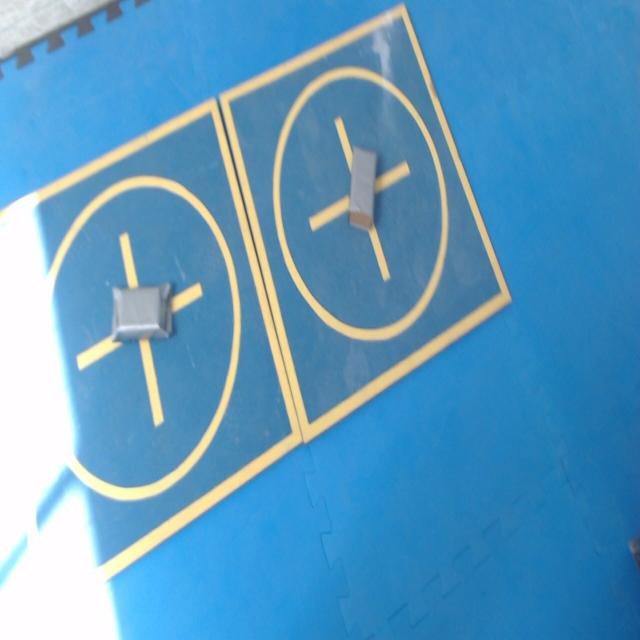lipo: (112, 283, 172, 341), (348, 147, 376, 230)
